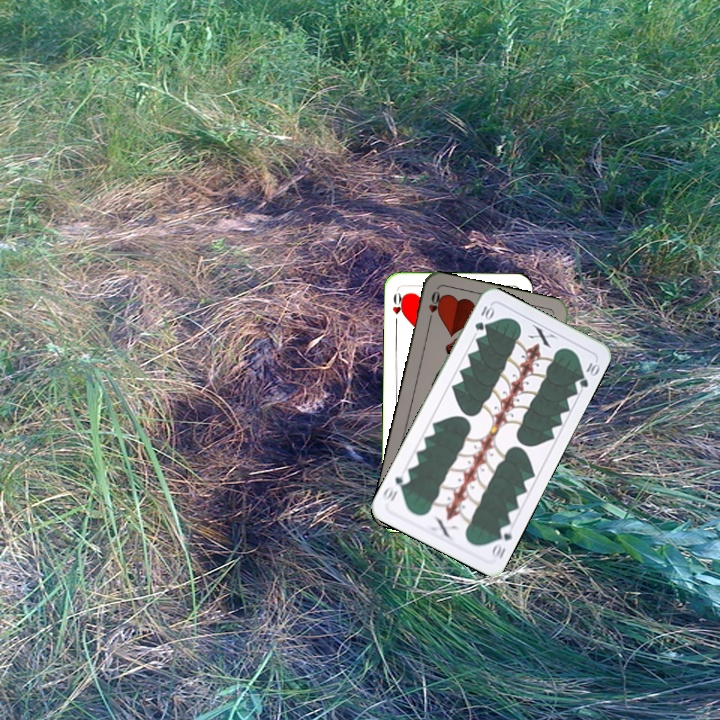G10: (488, 521, 515, 562), (470, 302, 496, 333)
HO: (424, 287, 444, 327), (388, 287, 407, 327)
